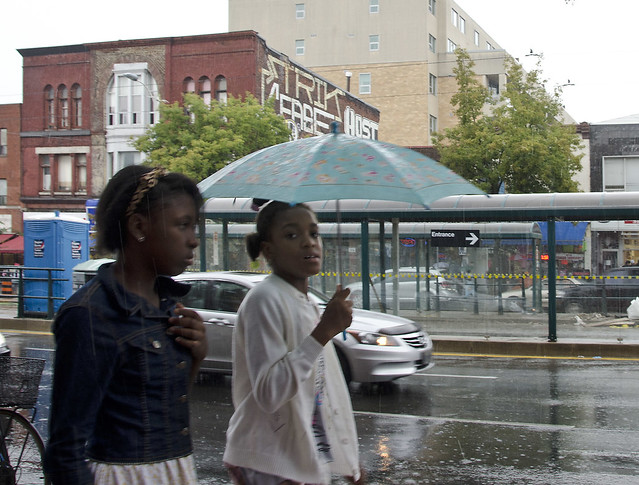backpack: (234, 267, 355, 480), (282, 298, 360, 481), (311, 336, 363, 482)
baseball bat: (282, 298, 360, 481), (313, 340, 363, 482)
bench: (14, 213, 354, 471), (192, 283, 435, 388), (271, 286, 358, 478), (0, 355, 48, 466), (343, 271, 461, 314), (484, 279, 567, 314), (0, 352, 46, 412), (72, 258, 117, 289), (468, 291, 521, 313), (488, 292, 540, 314), (450, 291, 501, 313), (428, 287, 473, 311)
bicycle: (40, 184, 211, 479), (17, 315, 193, 478), (233, 287, 398, 433), (7, 265, 104, 475), (5, 398, 211, 485), (0, 345, 126, 485), (271, 286, 358, 478), (304, 326, 360, 478), (0, 354, 49, 481), (0, 356, 47, 421), (484, 279, 567, 314), (1, 417, 45, 482), (431, 281, 473, 311), (476, 291, 527, 314), (500, 293, 539, 313)
book: (201, 196, 262, 216), (312, 286, 354, 308), (307, 289, 330, 308)
bottle: (312, 286, 354, 308), (155, 275, 192, 299), (326, 282, 363, 305), (327, 284, 349, 302)
bus: (59, 127, 570, 442), (33, 162, 361, 428), (202, 150, 548, 379), (183, 158, 426, 445), (111, 228, 461, 389), (217, 145, 610, 281), (44, 176, 215, 479), (199, 124, 577, 229), (310, 202, 634, 311), (344, 225, 541, 310), (10, 212, 89, 317), (196, 193, 260, 271), (552, 270, 638, 313), (72, 257, 116, 289), (601, 266, 638, 280), (557, 254, 581, 271)
car: (209, 202, 569, 451), (206, 147, 596, 361), (144, 161, 472, 407), (70, 190, 337, 472), (53, 244, 456, 422), (42, 165, 220, 478), (180, 218, 400, 465), (23, 275, 306, 446), (279, 203, 631, 314), (335, 263, 611, 378), (193, 280, 464, 392), (294, 239, 435, 441), (117, 300, 348, 419), (190, 220, 351, 388), (39, 258, 229, 399), (216, 286, 373, 456), (146, 251, 305, 407), (166, 220, 267, 447), (135, 281, 370, 373), (346, 238, 586, 324), (167, 258, 391, 343), (328, 275, 500, 368), (267, 268, 437, 361), (346, 282, 461, 413), (264, 287, 394, 399), (313, 289, 435, 389), (302, 297, 383, 440), (166, 270, 267, 382), (210, 283, 361, 353), (301, 256, 472, 317), (345, 265, 529, 315), (305, 325, 365, 478), (212, 292, 311, 384), (177, 268, 307, 336), (403, 271, 565, 320), (318, 272, 446, 334), (267, 330, 391, 387), (230, 280, 288, 400), (162, 283, 224, 386), (308, 281, 386, 362), (336, 326, 433, 387), (337, 301, 432, 360), (168, 262, 275, 308), (183, 297, 240, 378), (343, 275, 457, 315), (554, 269, 638, 314), (338, 266, 441, 301), (522, 272, 608, 312), (311, 282, 393, 323), (480, 278, 572, 313), (0, 354, 46, 423), (407, 276, 478, 314), (330, 273, 410, 306), (453, 278, 526, 314), (564, 263, 635, 296), (435, 280, 503, 312), (576, 288, 638, 318), (593, 275, 638, 314), (502, 276, 563, 304), (477, 275, 533, 304), (531, 279, 578, 312), (544, 282, 595, 312), (556, 273, 601, 304), (71, 258, 117, 288), (513, 288, 568, 312), (428, 283, 475, 311), (468, 283, 515, 311), (601, 266, 638, 300), (541, 274, 584, 303), (333, 283, 380, 308), (474, 291, 525, 314), (580, 266, 638, 286), (444, 287, 485, 313), (501, 287, 547, 310), (383, 268, 439, 286), (416, 288, 461, 310), (431, 270, 475, 292), (459, 291, 502, 313), (428, 276, 463, 303), (320, 284, 362, 306), (490, 284, 532, 306), (527, 282, 566, 305), (395, 265, 446, 282), (85, 197, 101, 250), (493, 293, 532, 313), (428, 263, 466, 283), (438, 278, 474, 299), (428, 267, 456, 291), (446, 283, 479, 303), (545, 285, 571, 310), (407, 262, 448, 277), (437, 287, 464, 309), (486, 298, 522, 314), (338, 280, 362, 303), (477, 293, 505, 312), (601, 266, 638, 280), (448, 293, 475, 311), (456, 288, 477, 310), (461, 292, 483, 313), (501, 291, 528, 308), (84, 197, 99, 226), (437, 277, 460, 295), (414, 267, 444, 280), (398, 268, 432, 279), (626, 296, 638, 327), (614, 262, 638, 277), (429, 265, 451, 280), (428, 270, 450, 285), (565, 272, 593, 283), (501, 288, 531, 298), (0, 331, 11, 357), (619, 256, 638, 270), (430, 262, 449, 275), (569, 270, 595, 279)
cell phone: (318, 286, 352, 325), (316, 283, 360, 306), (155, 275, 192, 299), (308, 287, 344, 309), (324, 286, 350, 310), (313, 291, 336, 311), (335, 285, 355, 306), (312, 286, 337, 302), (327, 284, 349, 302), (307, 289, 330, 306), (170, 303, 192, 320), (169, 302, 184, 325)
chair: (271, 286, 358, 478), (311, 336, 363, 482), (0, 355, 48, 466), (0, 352, 46, 412), (71, 258, 117, 288), (0, 331, 11, 357)
cup: (331, 283, 360, 307), (326, 284, 350, 302)
dining table: (0, 355, 46, 413), (71, 257, 115, 291)
fire hydrant: (45, 171, 210, 474)
hair drier: (154, 275, 192, 299)
handbag: (233, 287, 398, 433), (271, 286, 358, 478), (295, 303, 352, 441), (311, 336, 363, 482), (171, 298, 217, 386), (316, 283, 360, 306)
kite: (180, 275, 468, 391), (282, 298, 360, 481)
knife: (307, 289, 329, 307)
motorcycle: (239, 234, 398, 461), (213, 277, 416, 403), (271, 286, 358, 478)
oven: (71, 257, 115, 292)
person: (70, 190, 337, 472), (211, 186, 471, 417), (45, 178, 213, 481), (239, 200, 380, 480), (198, 277, 390, 415), (163, 240, 267, 464), (229, 249, 337, 458), (271, 286, 358, 478), (265, 254, 342, 409), (302, 297, 383, 440), (293, 271, 356, 398), (311, 336, 363, 482), (171, 298, 217, 386), (83, 196, 101, 255), (245, 223, 266, 269), (328, 284, 354, 320), (155, 275, 192, 299), (523, 276, 548, 309), (327, 281, 361, 305), (219, 288, 239, 311), (327, 284, 349, 302), (510, 279, 532, 296), (626, 295, 638, 324), (520, 273, 532, 294)
remote: (318, 286, 352, 325), (171, 301, 190, 356), (316, 283, 360, 306), (155, 275, 192, 299), (308, 287, 344, 309), (168, 304, 184, 344), (324, 285, 349, 302), (307, 289, 330, 306), (170, 303, 183, 328), (168, 300, 185, 319)
skateboard: (282, 298, 360, 481), (313, 340, 363, 482)
skis: (282, 298, 360, 481), (311, 336, 363, 482)
snowboard: (282, 298, 360, 481), (311, 336, 363, 482)
sports ball: (245, 231, 261, 258)
stop sign: (204, 127, 512, 224), (245, 231, 261, 258)
suitcase: (271, 286, 358, 478), (184, 306, 239, 381), (0, 354, 46, 423), (201, 316, 233, 373)
surfboard: (164, 280, 435, 372), (282, 298, 360, 481), (316, 343, 362, 479)
tennis racket: (282, 298, 360, 481), (313, 340, 363, 482), (0, 354, 49, 481)
traffic light: (245, 231, 261, 258), (540, 252, 550, 276)
train: (206, 147, 596, 361), (144, 161, 472, 407), (199, 124, 577, 229)
truck: (202, 150, 548, 379), (60, 177, 329, 459), (53, 244, 456, 422), (167, 200, 409, 440), (310, 202, 634, 311), (171, 275, 411, 388), (346, 238, 586, 324), (262, 291, 439, 388), (167, 271, 295, 384), (7, 212, 91, 319), (343, 271, 461, 314), (550, 269, 638, 314), (480, 278, 572, 313), (432, 277, 520, 313), (534, 277, 609, 313), (522, 278, 578, 312), (72, 257, 116, 289), (472, 292, 527, 314), (503, 286, 553, 309), (436, 286, 475, 311), (459, 291, 502, 313), (493, 293, 532, 313), (601, 266, 638, 280)
umbrella: (209, 156, 487, 419), (197, 132, 559, 298), (279, 203, 631, 314), (211, 128, 505, 220), (180, 279, 423, 390), (282, 298, 360, 481), (311, 336, 363, 482), (197, 196, 260, 269), (199, 197, 260, 233), (72, 257, 117, 283), (202, 197, 261, 215), (74, 257, 113, 271)
wine glass: (0, 354, 49, 481)
